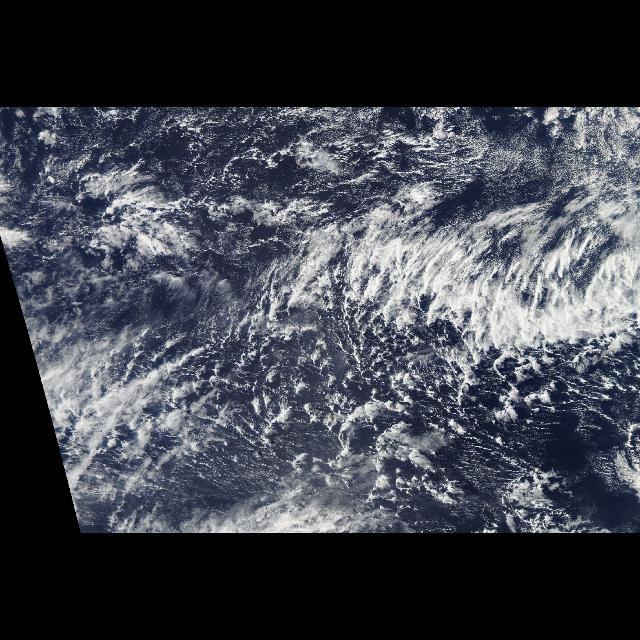Gravel: (136, 301, 638, 504), (3, 110, 266, 214)
Sugar: (428, 110, 638, 200)
